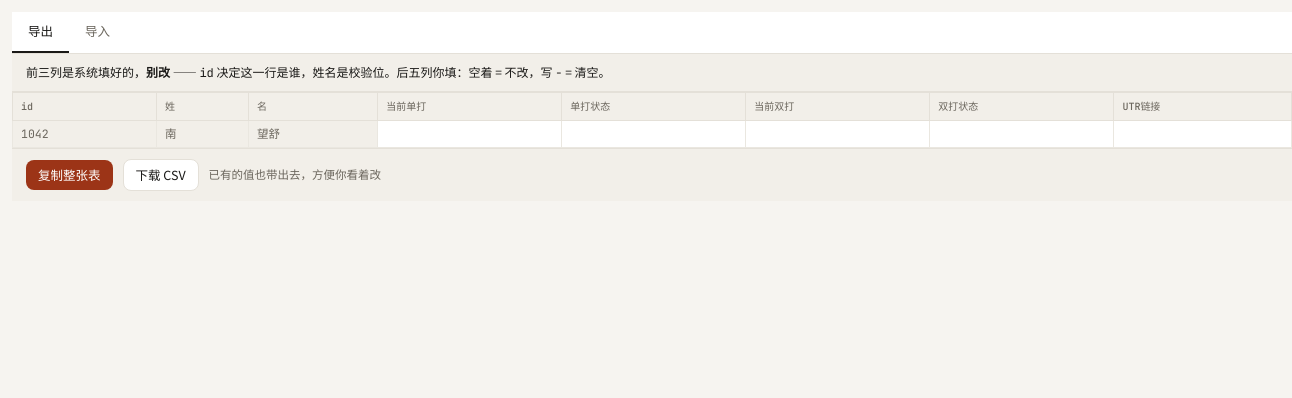
preview, then write › sends the same text to the write that produced the diff
This screenshot has width=1292, height=398.
Click the button "导入". click: (98, 32)
box: left=69, top=12, right=126, bottom=53
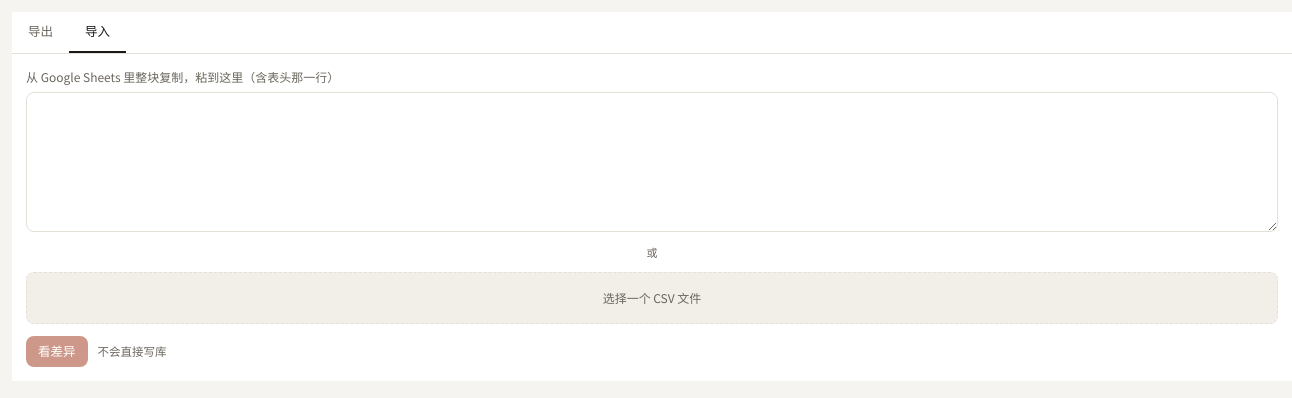
Type "SHEET-TEXT" into the text box. click: (652, 162)
box: left=26, top=92, right=1278, bottom=232
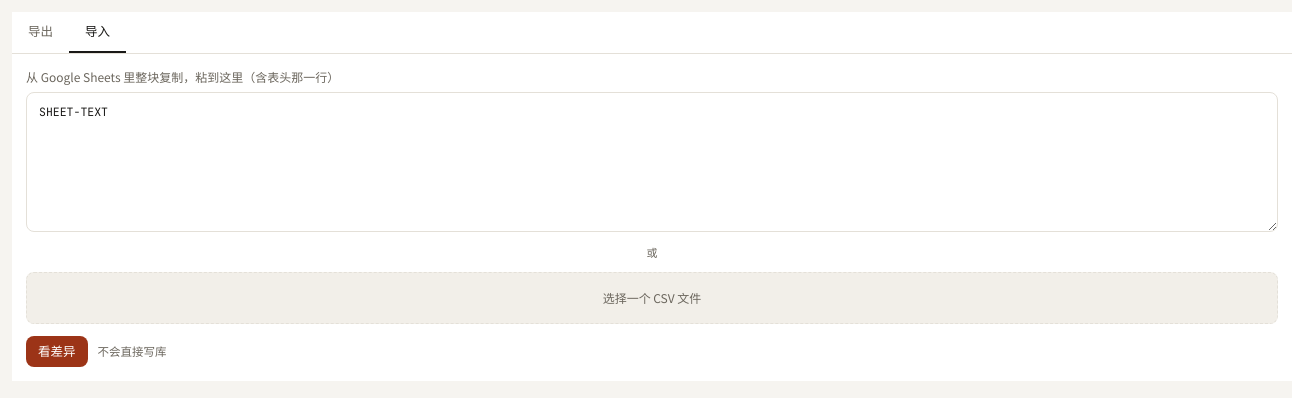
Click the button "看差异". click: (57, 352)
box: left=26, top=336, right=88, bottom=367
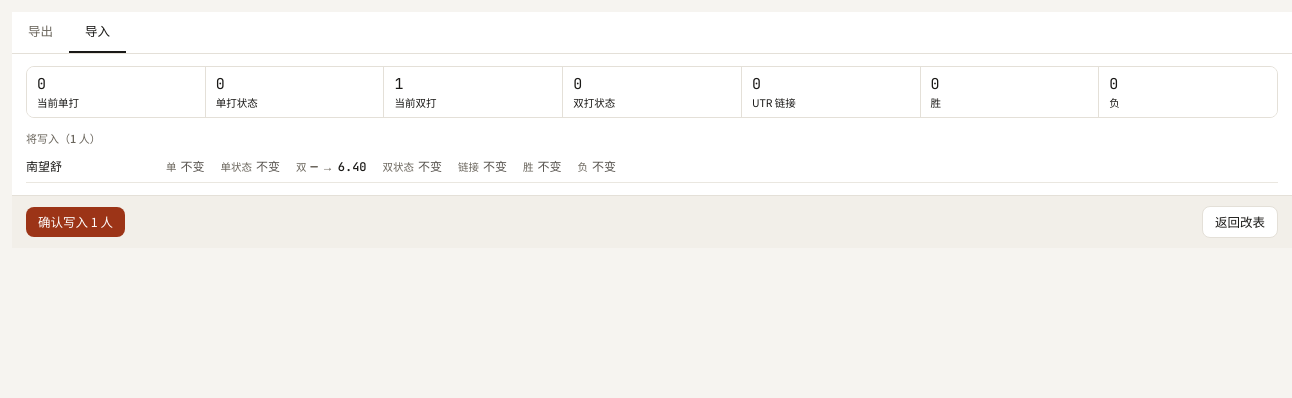
Click the button "确认写入 1 人". click: (76, 222)
box: left=26, top=206, right=125, bottom=237
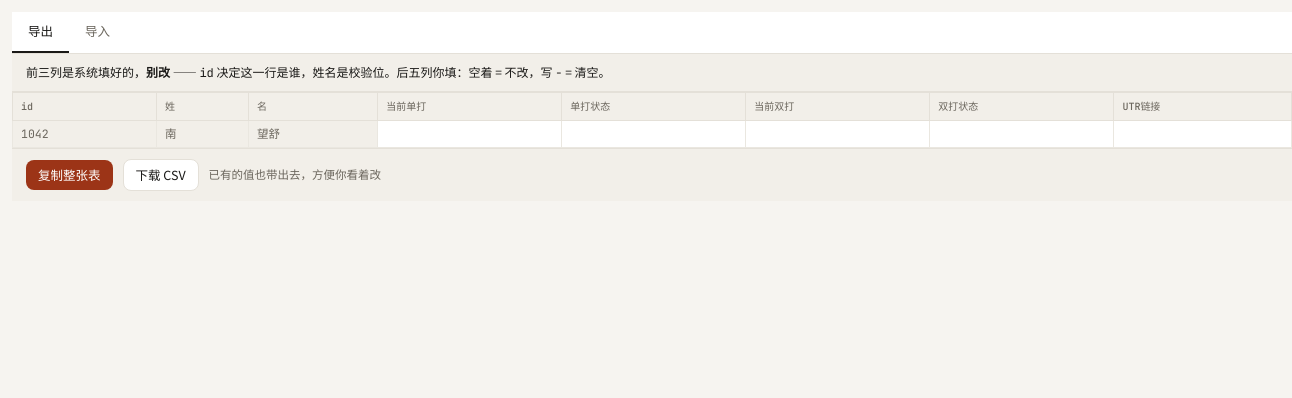
Result: the button "复制整张表" is shown at left=26, top=160, right=112, bottom=190
